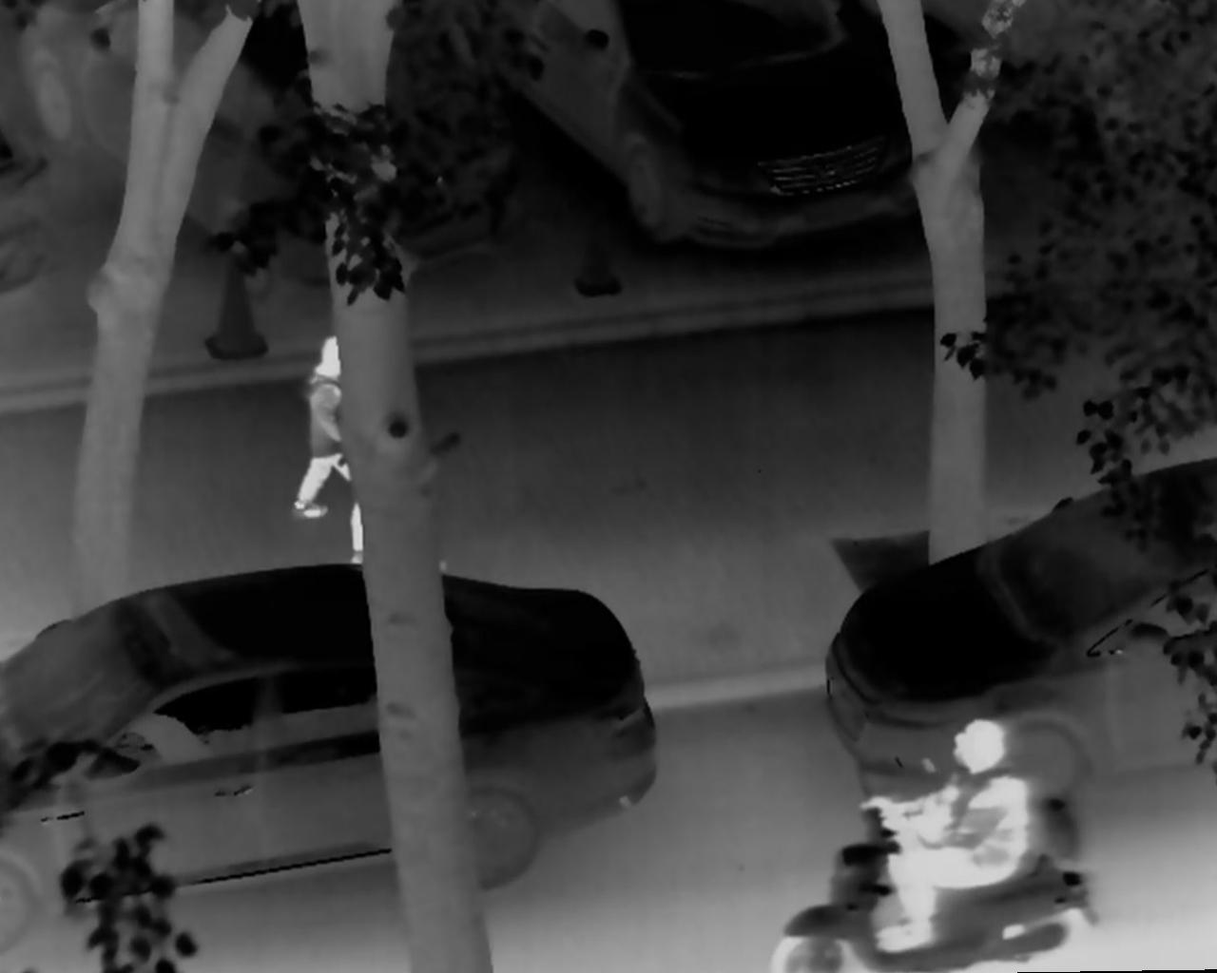person: (859, 710, 1034, 960), (290, 328, 369, 524), (341, 474, 446, 569)
